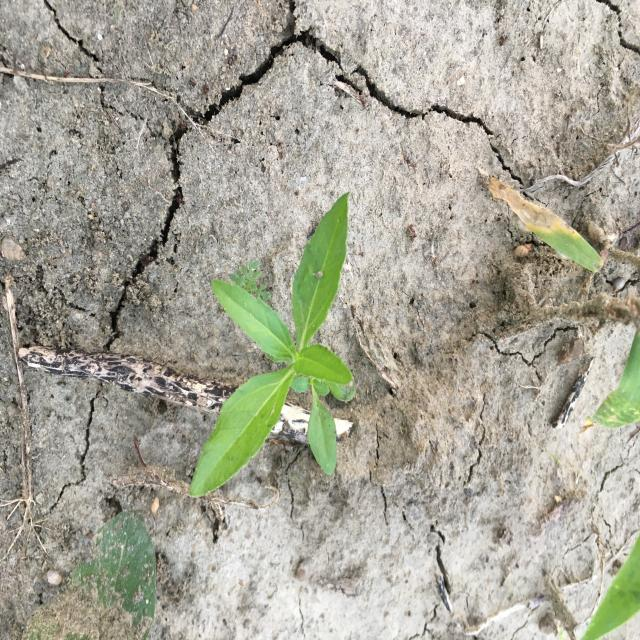Eclipta: (187, 188, 358, 499)
